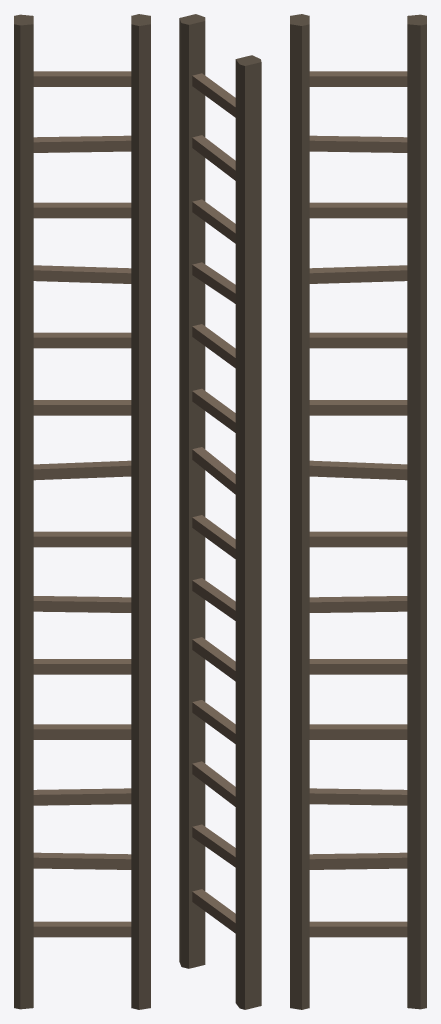
The model's file is Ladder.obj.
The picture shows the model from 3 angles, left to right: view 1: azimuth 90°, elevation 25°; view 2: azimuth 210°, elevation 25°; view 3: azimuth 270°, elevation 25°; orthographic projection. The views are drawn at different scales.
Bounding box in the file's own units: 0.0634 × 2.4 × 0.3025.
1 material, 1 textured.
